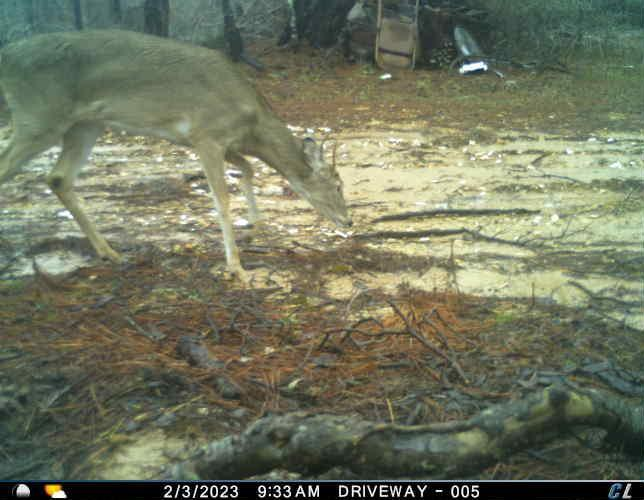Deer: (0, 25, 354, 284)
